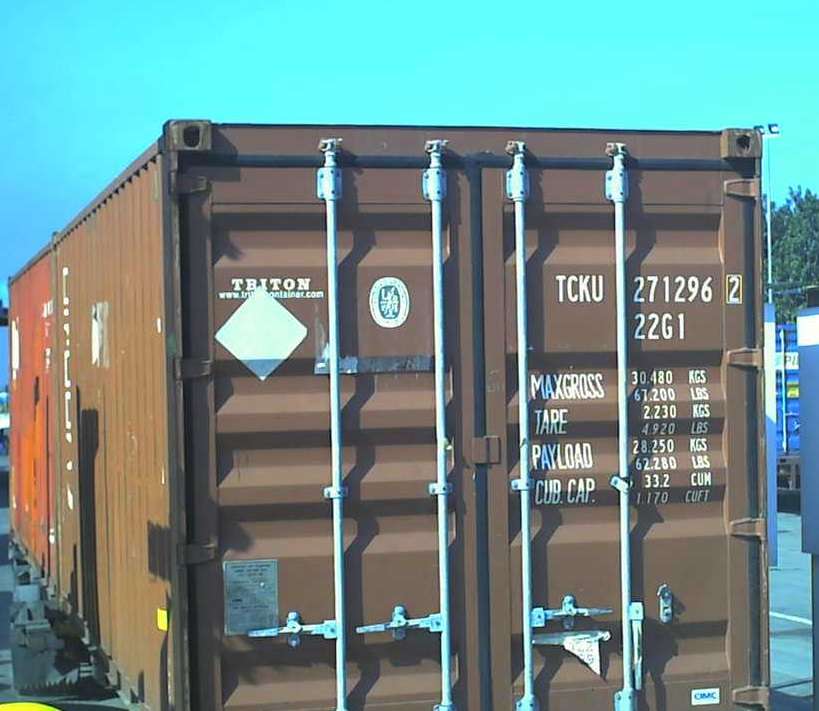container_door: (159, 116, 768, 711)
